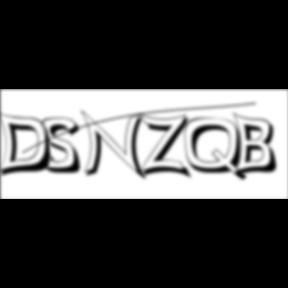B: (233, 111, 283, 179)
D: (0, 110, 58, 180)
N: (81, 109, 151, 183)
Q: (184, 117, 250, 184)
S: (42, 117, 88, 176)
Z: (140, 112, 196, 181)
